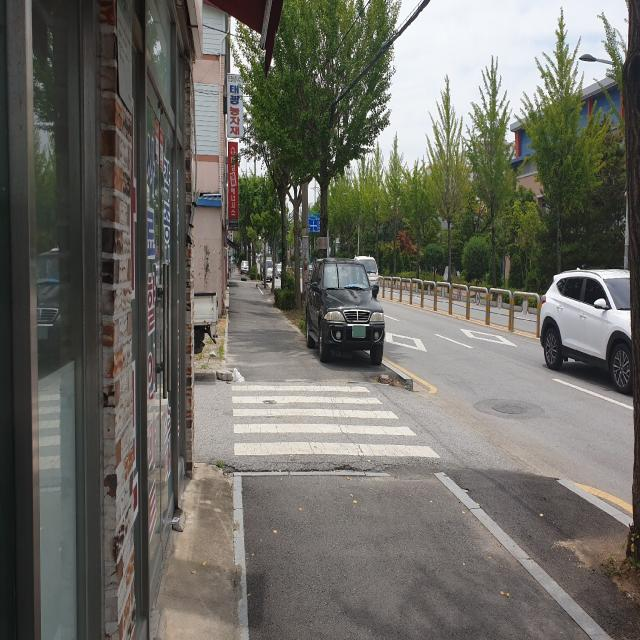횡단보도: (231, 385, 441, 457)
